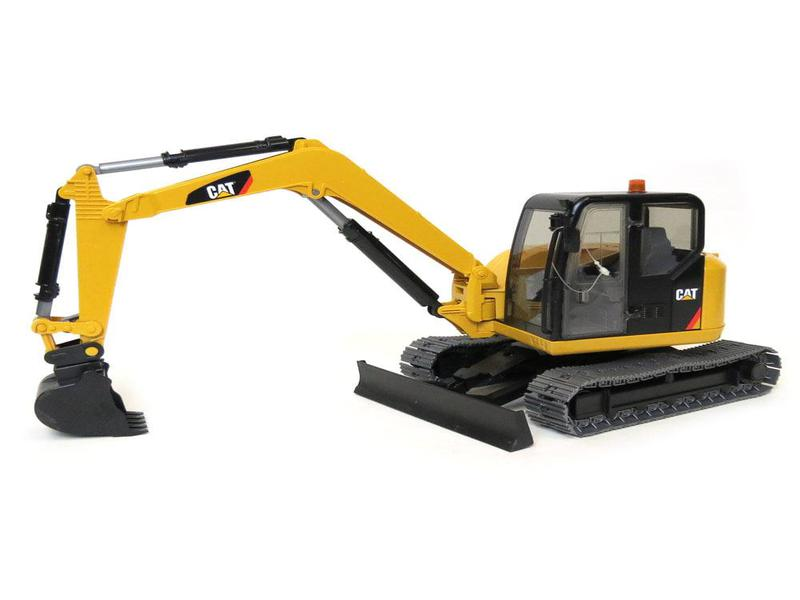shovel: (23, 125, 786, 456)
